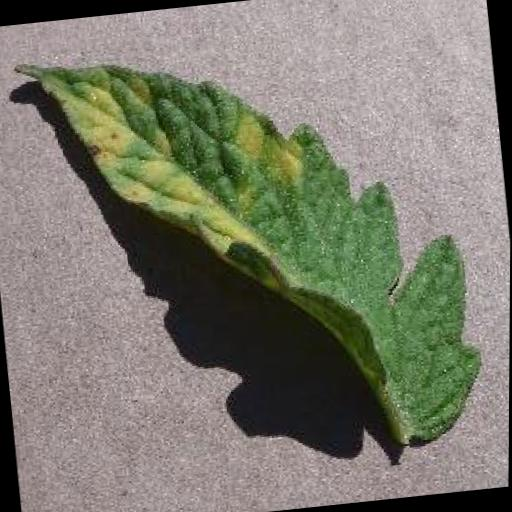Leaf Mold: (13, 14, 495, 485)
